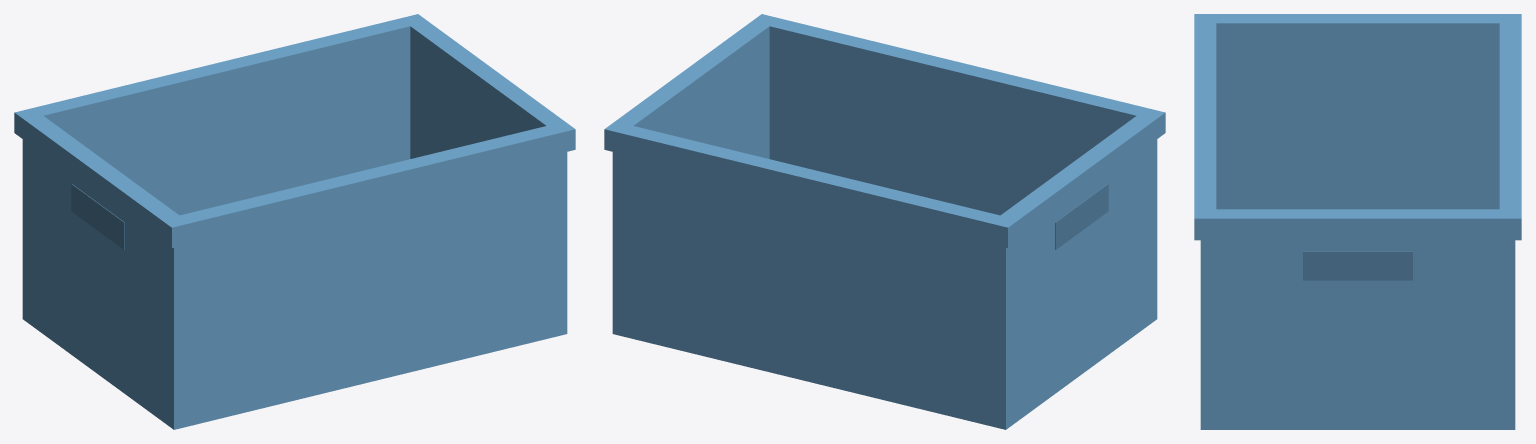
The model's file is engradado.glb.
The picture shows the model from 3 angles, left to right: view 1: azimuth 30°, elevation 25°; view 2: azimuth 150°, elevation 25°; view 3: azimuth 270°, elevation 25°; orthographic projection. The views are drawn at different scales.
Visible parts, largest first — view 1: corpo; view 2: corpo; view 3: corpo.
Part boxes in pixels (x1,y1,x2,y2): corpo: [14, 14, 575, 429]; corpo: [604, 14, 1165, 429]; corpo: [1194, 14, 1521, 429].
Size of the model in its own units: 0.616 by 0.3 by 0.416.
